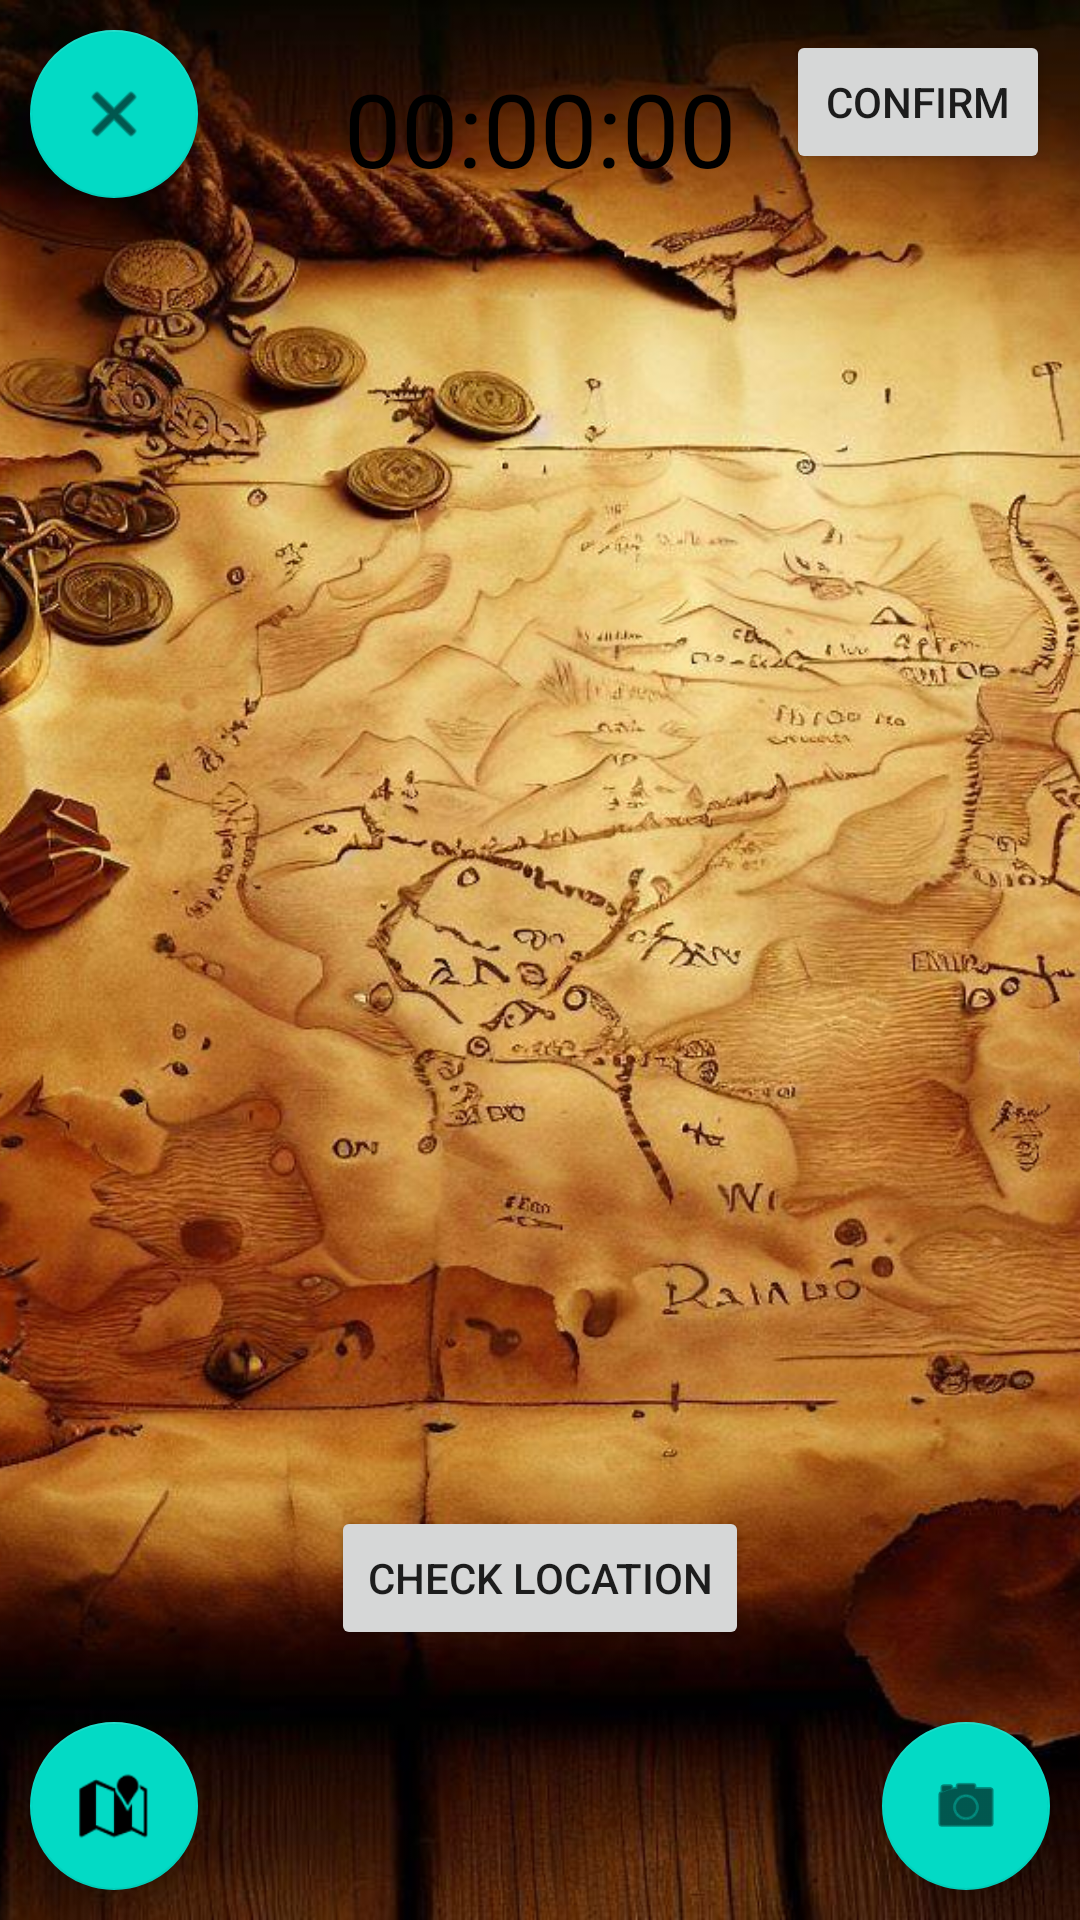

Icons on this 1080 x 1920 Android screen, each with the point to tap as [x,y]:
camera: [966,1806]
close clear cancel: [114,114]
map: [114,1806]
